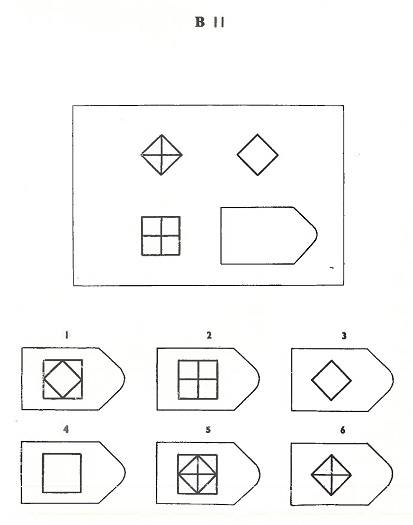Array 1: (17, 326, 128, 414)
Array 2: (152, 326, 265, 416)
Array 3: (287, 326, 397, 416)
Array 4: (17, 420, 130, 507)
Array 5: (153, 420, 266, 510)
Array 6: (287, 421, 397, 511)
Matrix 1: (136, 128, 186, 179)
Matrix 2: (229, 129, 283, 179)
Matrix 3: (134, 209, 189, 263)
Matrix Unknown: (215, 202, 321, 268)
